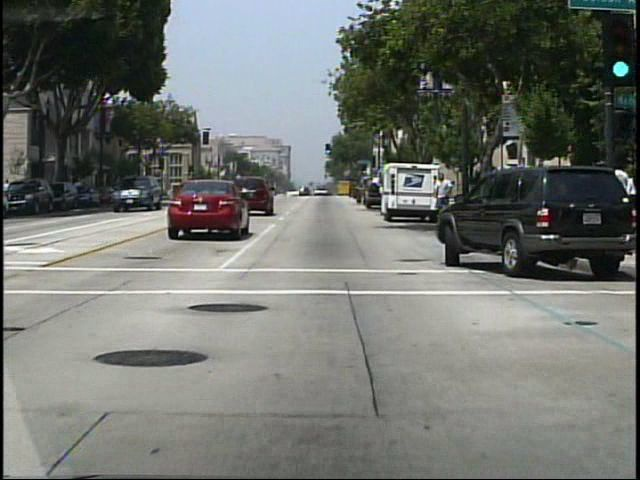person: (429, 171, 454, 226), (352, 177, 368, 208), (4, 178, 15, 205)
